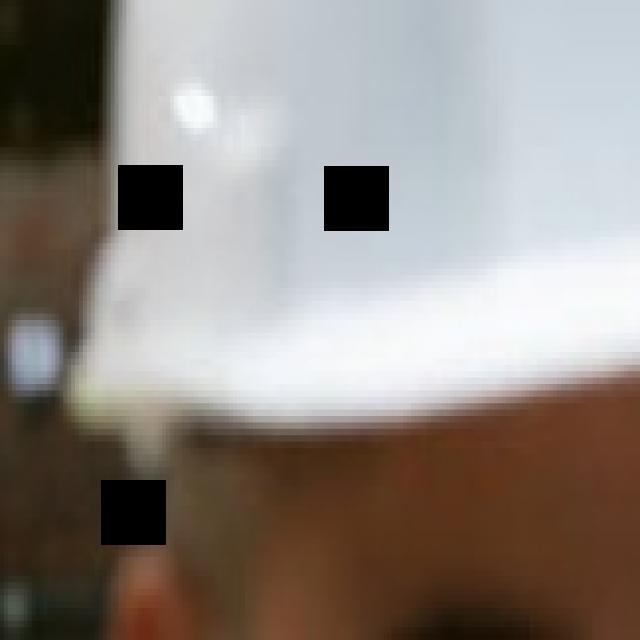white helmet: (49, 1, 640, 456)
